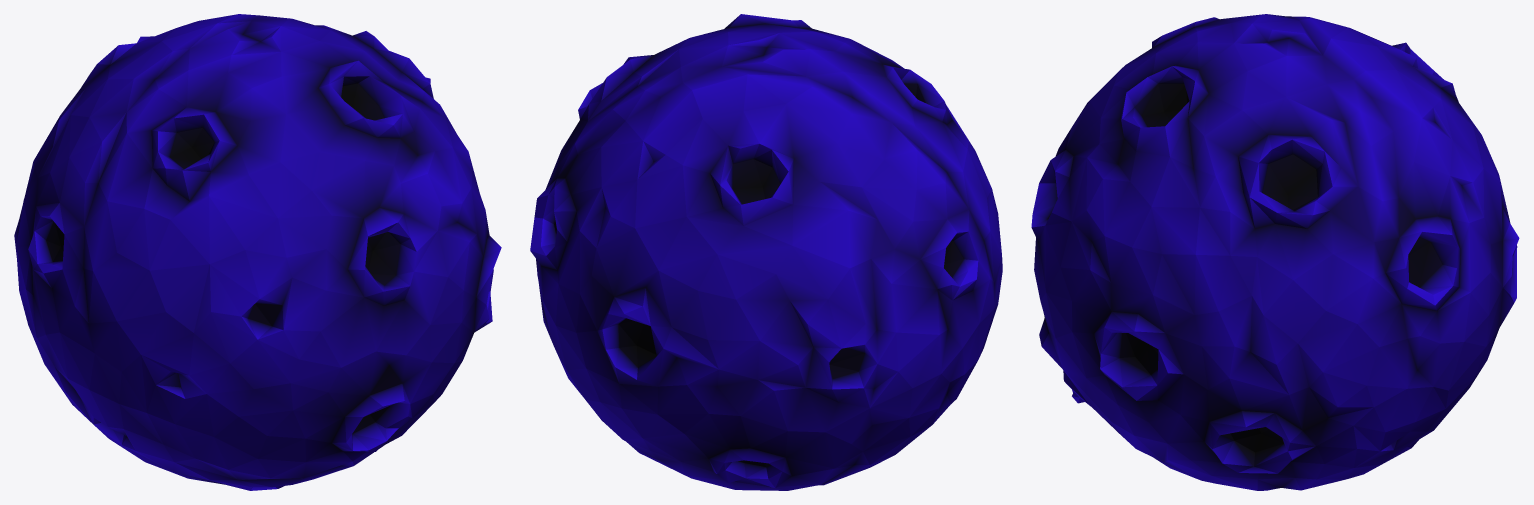
File: moon14.fbx
3 views of the same model, side by side, from view 1: azimuth 30°, elevation 25°; view 2: azimuth 150°, elevation 25°; view 3: azimuth 270°, elevation 25° (orthographic). The views are drawn at different scales.
Visible parts, largest first — view 1: attribblur1; view 2: attribblur1; view 3: attribblur1.
Part boxes in pixels (left/top/right/bottom): attribblur1: left=14, top=14, right=501, bottom=490; attribblur1: left=530, top=14, right=1002, bottom=490; attribblur1: left=1031, top=14, right=1519, bottom=490.
Size of the model in its own units: 0.9123 by 0.8983 by 0.9186.
